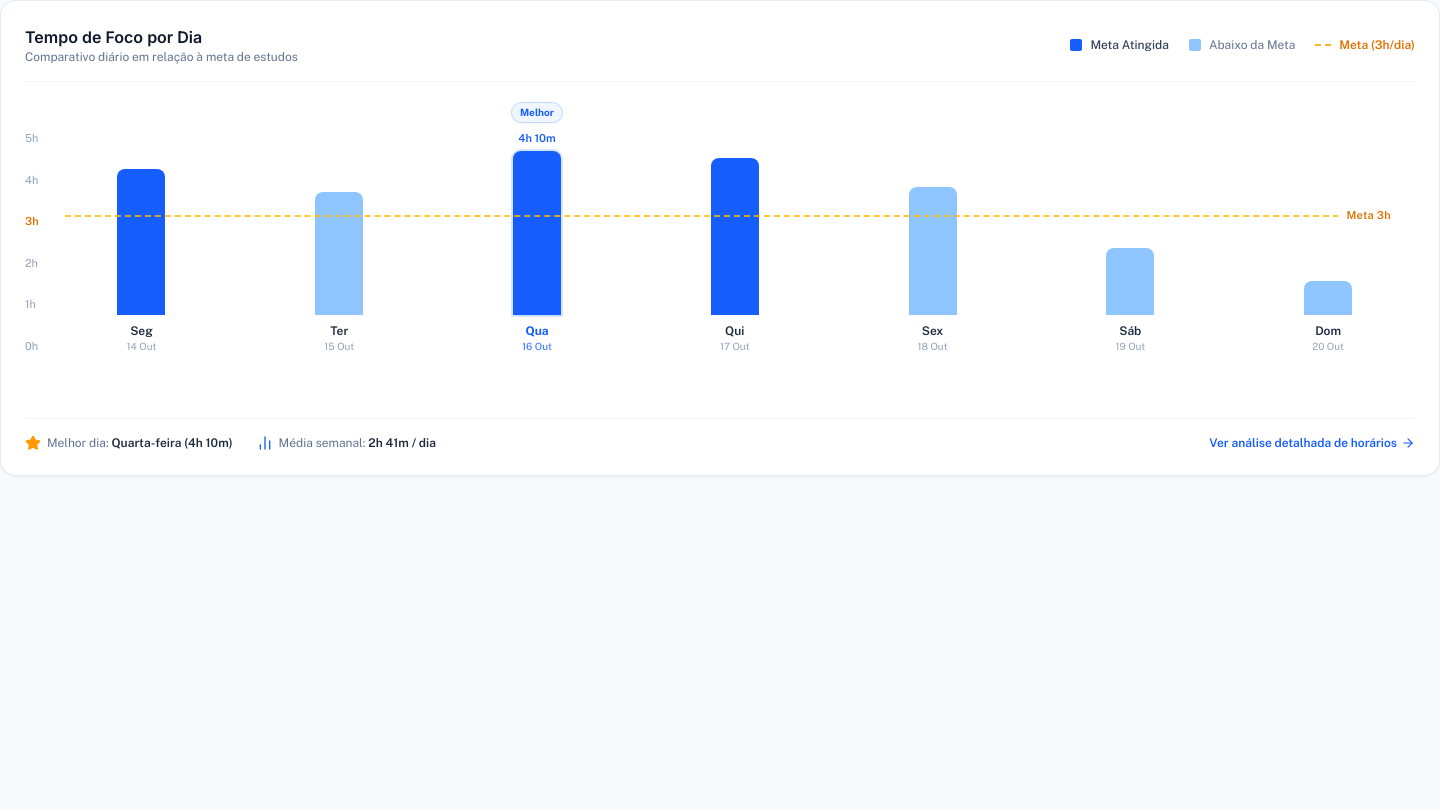
Scenario: FocusBarChart Component › renderiza as 7 barras diárias e modal de análise de horários
Expected: the heading "Tempo de Foco por Dia" is shown, [25,27,202,47]
Expected: the text "Meta Atingida" is shown, [1090,37,1169,53]
// Open hourly details modal
Click the button "Ver análise detalhada de horários".
click(1312, 443)  # box [1209,435,1415,451]
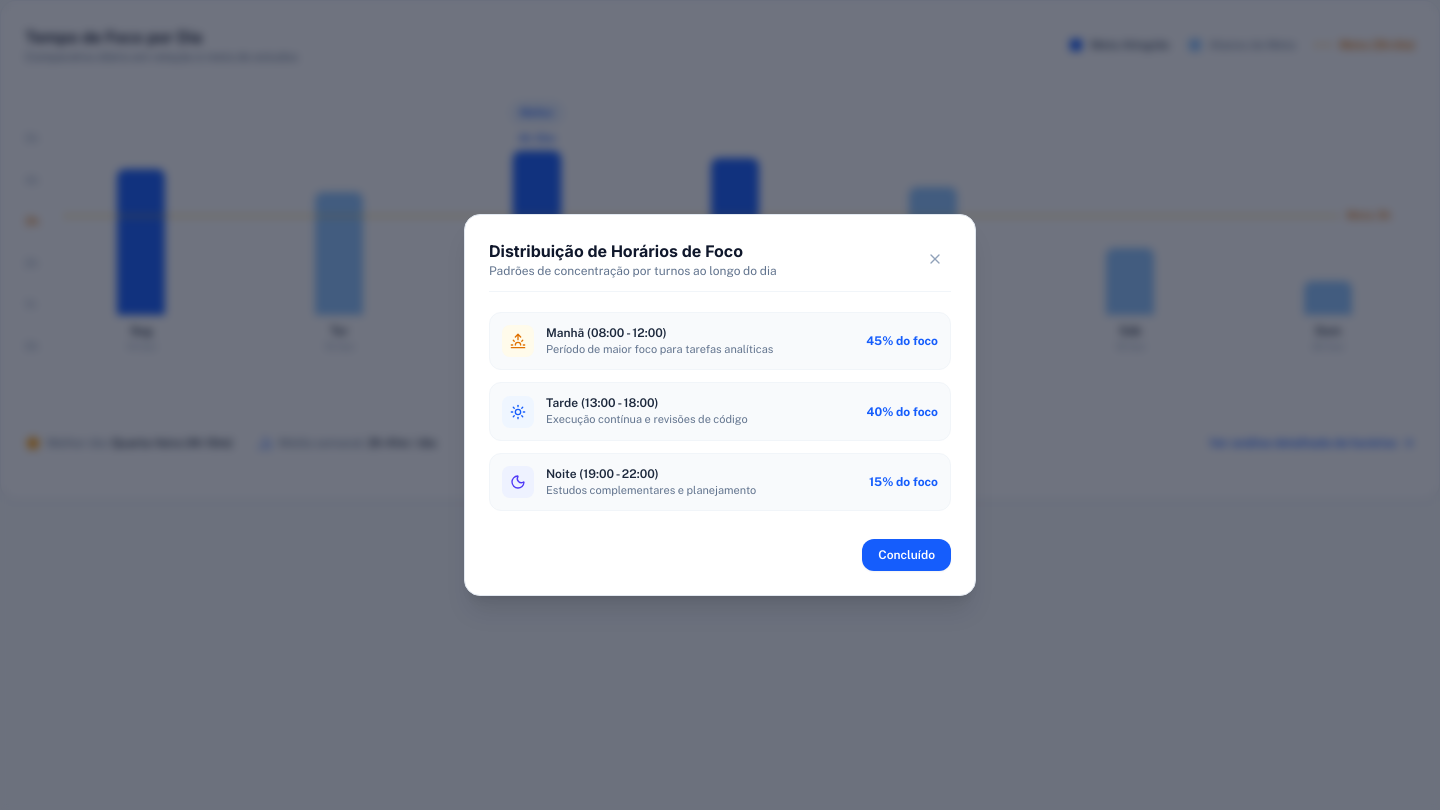
Now the heading "Distribuição de Horários de Foco" is shown, box [489,239,777,263]
Now the heading "Manhã (08:00 - 12:00)" is shown, box [546,326,667,340]
// Close modal
Click the button "Concluído".
click(907, 555)  # box [862,539,951,571]
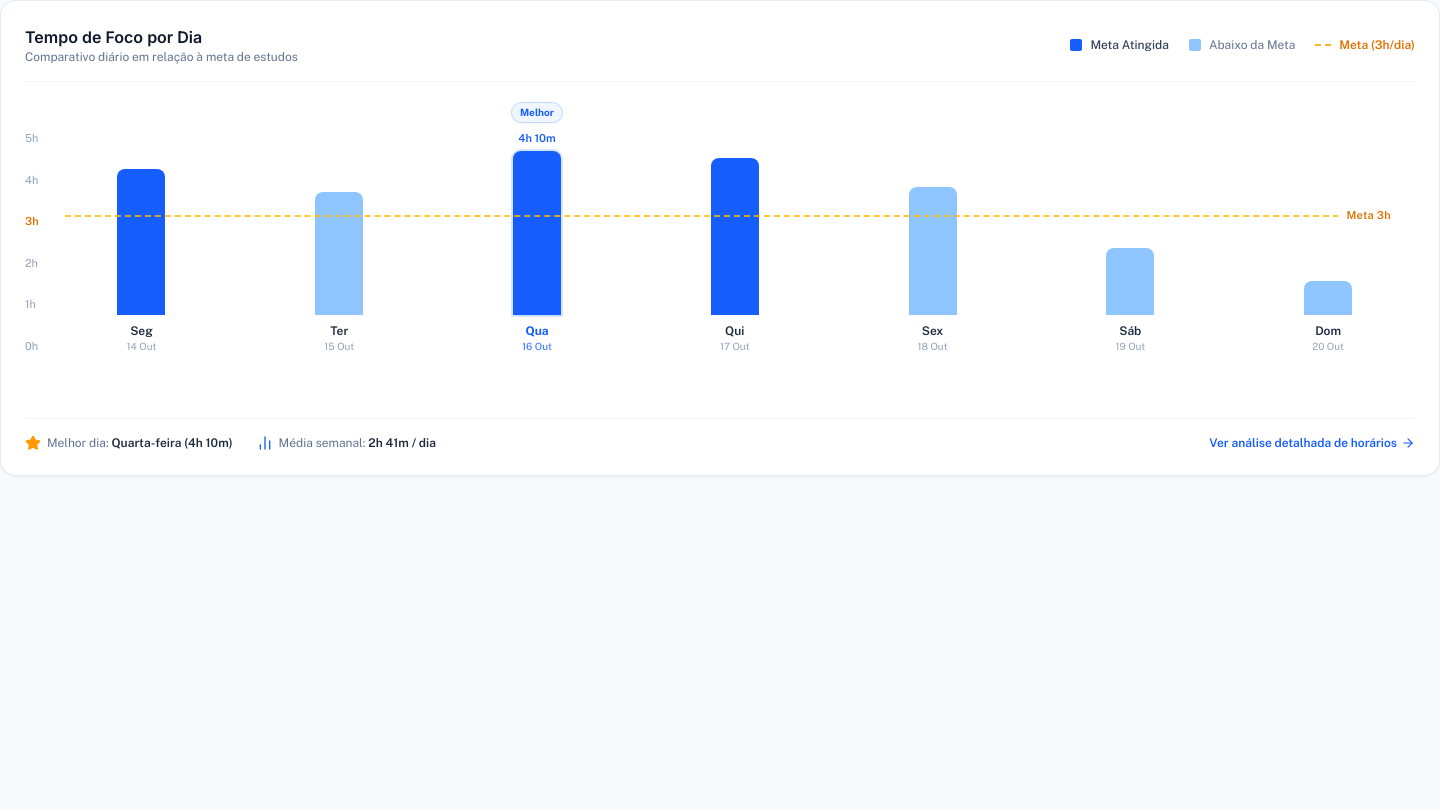
Now the heading "Distribuição de Horários de Foco" is gone
